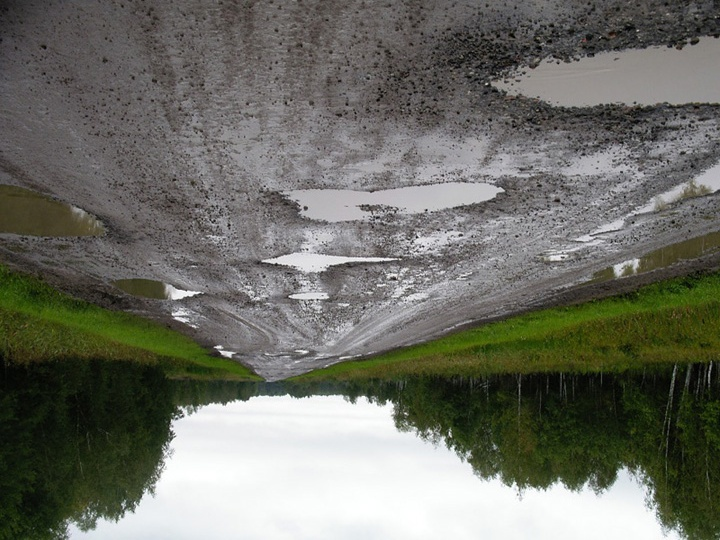pothole: (495, 38, 719, 128), (252, 180, 504, 224), (2, 177, 107, 255), (254, 244, 401, 275), (103, 270, 203, 303), (405, 227, 474, 267), (566, 212, 660, 236), (659, 166, 719, 203), (538, 241, 596, 266), (286, 286, 334, 303), (210, 343, 241, 363), (285, 347, 315, 359)
